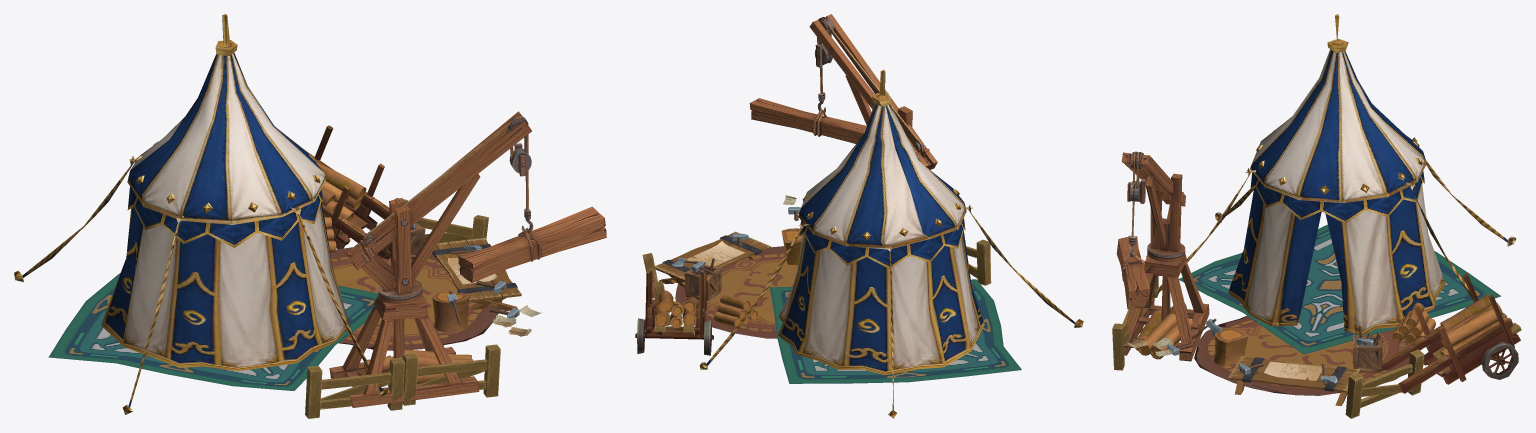
The model's file is MainCityDecor_Builder_Tent.glb.
The picture shows the model from 3 angles, left to right: view 1: azimuth 30°, elevation 25°; view 2: azimuth 150°, elevation 25°; view 3: azimuth 270°, elevation 25°; orthographic projection. The views are drawn at different scales.
Visible parts, largest first — view 1: EnvCampsite_Detail__Tent___Basics___2__un416197682982161201, EnvMaincity_Detail__Catapult__u6277383943140275407, EnvCampsite_Detail__Rug__2__u6924093905790825679, EnvCampsite_Detail__Rug__3__un8659958840299555633, EnvCampsite_Detail__Cart__2__u3876637676832486607, EnvCampsite_Detail__Table__1__u7466769965627012303, EnvMaincity_Detail__Log___2_2__u4871837051459859663, EnvCampsite_Detail__Batten_1__un4747654483185306417, EnvCampsite_Detail__Batten_3__u4940695229063820495, EnvCampsite_Detail__Batten_2__u3765122234757346511, EnvCampsite_Detail__Batten_2__u7615317214974112975, EnvCampsite_Detail__Batten_3__un7200088514642905905 (+2 smaller); view 2: EnvCampsite_Detail__Tent___Basics___2__un416197682982161201, EnvMaincity_Detail__Catapult__u6277383943140275407, EnvCampsite_Detail__Rug__2__u6924093905790825679, EnvCampsite_Detail__Rug__3__un8659958840299555633, EnvCampsite_Detail__Cart__2__u3876637676832486607, EnvCampsite_Detail__Table__1__u7466769965627012303, EnvCampsite_Detail__Box__4__un9038180154102188849, EnvMaincity_Detail__Draft__un2920660400665660209, EnvCampsite_Detail__Batten_1__un4747654483185306417, EnvMaincity_Detail__Log___2_2__u4871837051459859663; view 3: EnvCampsite_Detail__Tent___Basics___2__un416197682982161201, EnvMaincity_Detail__Catapult__u6277383943140275407, EnvCampsite_Detail__Rug__2__u6924093905790825679, EnvCampsite_Detail__Cart__2__u3876637676832486607, EnvCampsite_Detail__Rug__3__un8659958840299555633, EnvCampsite_Detail__Table__1__u7466769965627012303, EnvMaincity_Detail__Log___2_2__u4871837051459859663, EnvCampsite_Detail__Box__4__un9038180154102188849, EnvMaincity_Detail__Log___1_2__un4422439273515125553, EnvMaincity_Detail__Draft__un2920660400665660209, EnvCampsite_Detail__Batten_3__u6838628754025215183, EnvMaincity_Detail__Log___2__un6804799078542805809 (+5 smaller).
Part boxes in pixels (x1=…): EnvCampsite_Detail__Tent___Basics___2__un416197682982161201: x1=14, y1=14, x2=388, y2=414; EnvMaincity_Detail__Catapult__u6277383943140275407: x1=329, y1=111, x2=606, y2=407; EnvCampsite_Detail__Rug__2__u6924093905790825679: x1=48, y1=273, x2=378, y2=390; EnvCampsite_Detail__Rug__3__un8659958840299555633: x1=330, y1=247, x2=502, y2=350; EnvCampsite_Detail__Cart__2__u3876637676832486607: x1=308, y1=125, x2=390, y2=259; EnvCampsite_Detail__Table__1__u7466769965627012303: x1=432, y1=237, x2=521, y2=310; EnvMaincity_Detail__Log___2_2__u4871837051459859663: x1=432, y1=290, x2=469, y2=332; EnvCampsite_Detail__Batten_1__un4747654483185306417: x1=305, y1=366, x2=322, y2=418; EnvCampsite_Detail__Batten_3__u4940695229063820495: x1=483, y1=344, x2=500, y2=397; EnvCampsite_Detail__Batten_2__u3765122234757346511: x1=321, y1=372, x2=391, y2=389; EnvCampsite_Detail__Batten_2__u7615317214974112975: x1=417, y1=359, x2=487, y2=376; EnvCampsite_Detail__Batten_3__un7200088514642905905: x1=387, y1=357, x2=404, y2=410; EnvCampsite_Detail__Tent___Basics___2__un416197682982161201: x1=699, y1=69, x2=1083, y2=418; EnvMaincity_Detail__Catapult__u6277383943140275407: x1=749, y1=14, x2=937, y2=169; EnvCampsite_Detail__Rug__2__u6924093905790825679: x1=769, y1=279, x2=1021, y2=383; EnvCampsite_Detail__Rug__3__un8659958840299555633: x1=675, y1=246, x2=797, y2=338; EnvCampsite_Detail__Cart__2__u3876637676832486607: x1=635, y1=271, x2=713, y2=355; EnvCampsite_Detail__Table__1__u7466769965627012303: x1=655, y1=231, x2=771, y2=287; EnvCampsite_Detail__Box__4__un9038180154102188849: x1=684, y1=264, x2=722, y2=301; EnvMaincity_Detail__Draft__un2920660400665660209: x1=686, y1=241, x2=745, y2=266; EnvCampsite_Detail__Batten_1__un4747654483185306417: x1=976, y1=239, x2=991, y2=285; EnvMaincity_Detail__Log___2_2__u4871837051459859663: x1=781, y1=228, x2=802, y2=264; EnvCampsite_Detail__Tent___Basics___2__un416197682982161201: x1=1151, y1=14, x2=1516, y2=335; EnvMaincity_Detail__Catapult__u6277383943140275407: x1=1116, y1=151, x2=1209, y2=361; EnvCampsite_Detail__Rug__2__u6924093905790825679: x1=1179, y1=224, x2=1500, y2=354; EnvCampsite_Detail__Cart__2__u3876637676832486607: x1=1381, y1=273, x2=1520, y2=393; EnvCampsite_Detail__Rug__3__un8659958840299555633: x1=1194, y1=316, x2=1410, y2=395; EnvCampsite_Detail__Table__1__u7466769965627012303: x1=1228, y1=356, x2=1360, y2=405; EnvMaincity_Detail__Log___2_2__u4871837051459859663: x1=1214, y1=328, x2=1248, y2=366; EnvCampsite_Detail__Box__4__un9038180154102188849: x1=1352, y1=335, x2=1382, y2=372; EnvMaincity_Detail__Log___1_2__un4422439273515125553: x1=1440, y1=308, x2=1498, y2=348; EnvMaincity_Detail__Draft__un2920660400665660209: x1=1264, y1=361, x2=1322, y2=380; EnvCampsite_Detail__Batten_3__u6838628754025215183: x1=1345, y1=373, x2=1363, y2=418; EnvMaincity_Detail__Log___2__un6804799078542805809: x1=1440, y1=294, x2=1491, y2=331.
Bounding box in the file's own units: 10.55 × 7.4 × 9.45.
11 materials, 11 textured.
